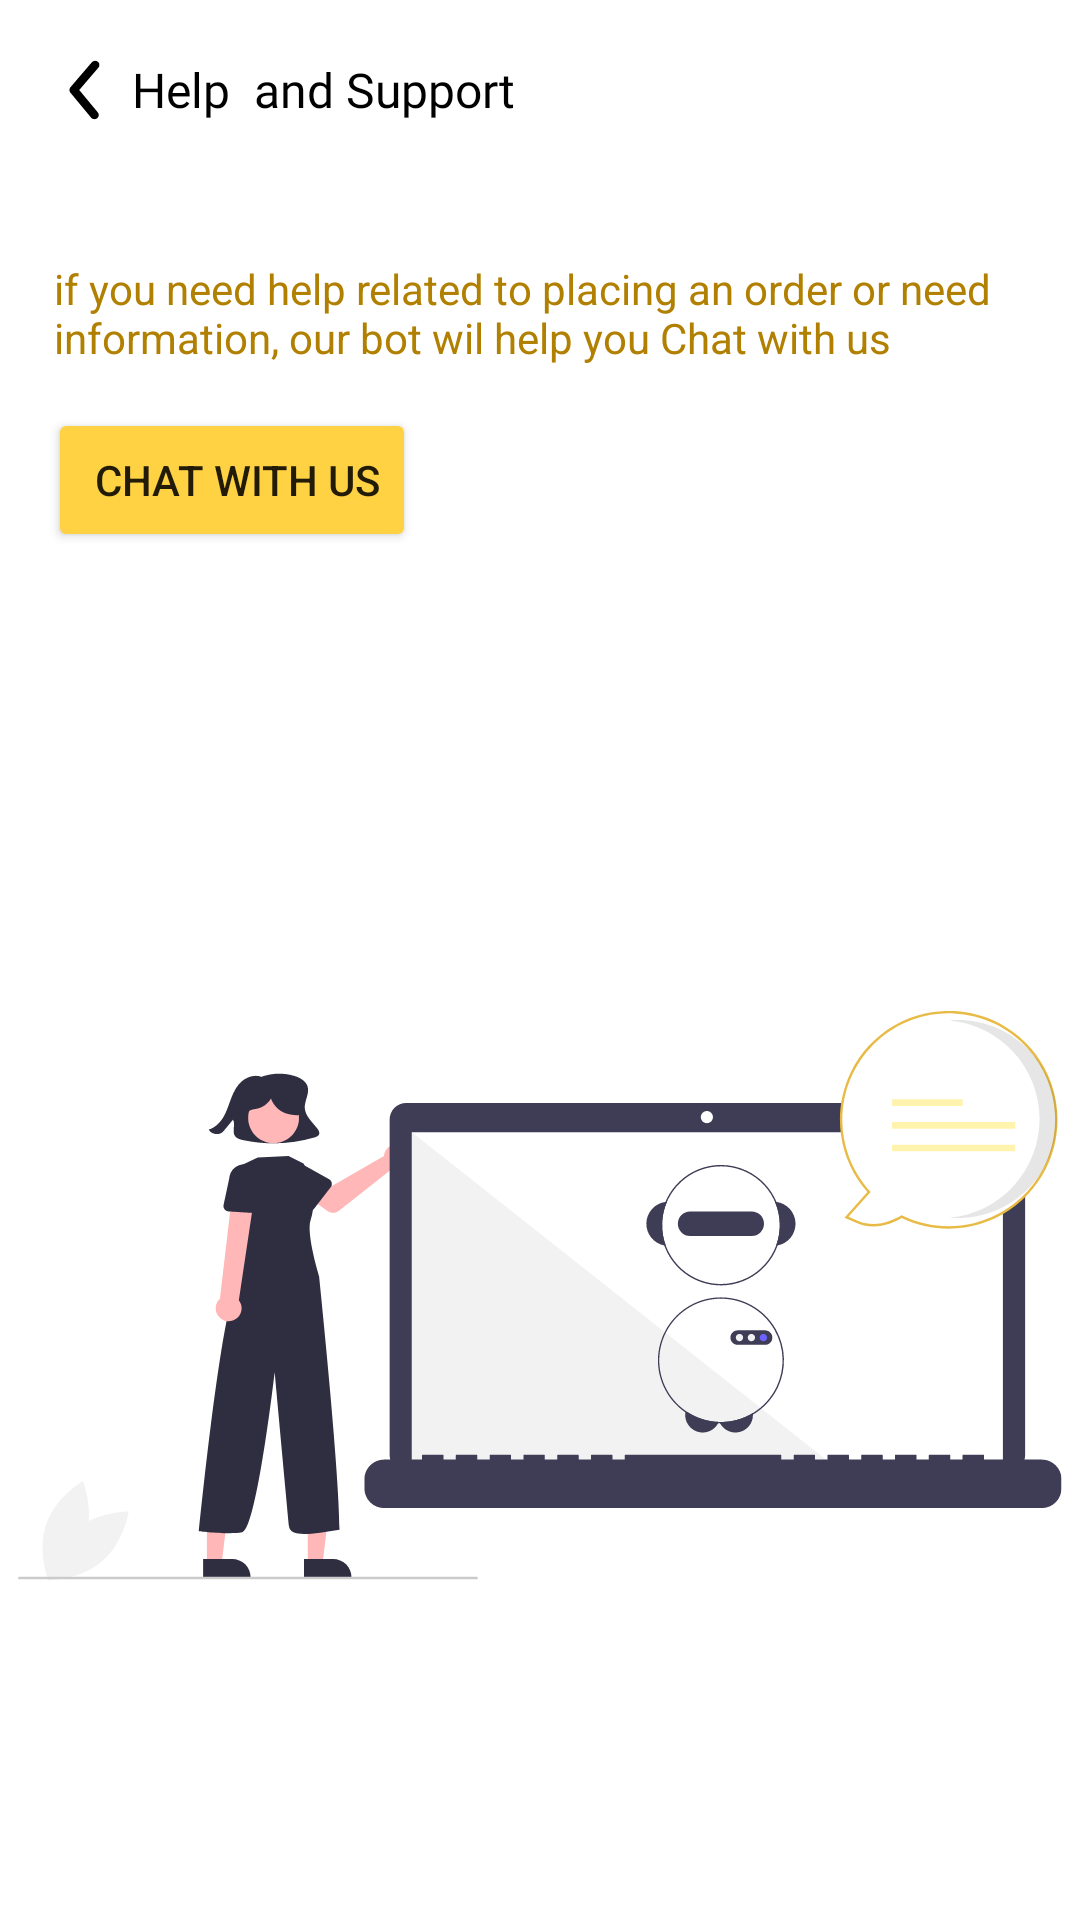

Icons on this 1080*1920 Android screen, each with its box as bbox=[x1, y1, x2, y2]:
restaurant page back: bbox=[69, 60, 100, 120]
